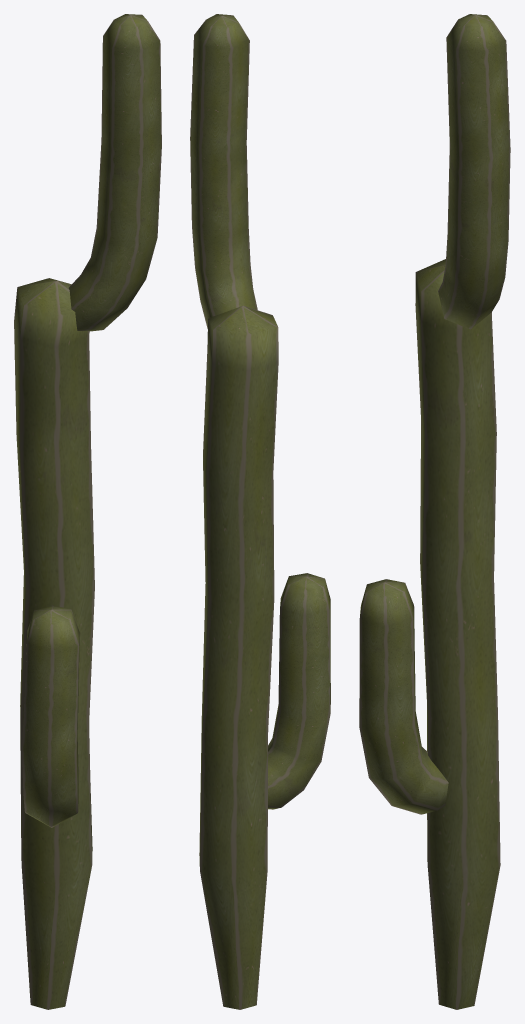
File: miracle-cactus-2.glb
3 views of the same model, side by side, from view 1: azimuth 30°, elevation 25°; view 2: azimuth 150°, elevation 25°; view 3: azimuth 330°, elevation 25° (orthographic). The views are drawn at different scales.
Visible parts, largest first — view 1: Single_cactus_small_2_LOD1_Cactus_material_0; view 2: Single_cactus_small_2_LOD1_Cactus_material_0; view 3: Single_cactus_small_2_LOD1_Cactus_material_0.
Boxes of the visible parts, box(x1,y1,x2,y2) form: Single_cactus_small_2_LOD1_Cactus_material_0: box(14, 14, 161, 1009); Single_cactus_small_2_LOD1_Cactus_material_0: box(190, 14, 330, 1009); Single_cactus_small_2_LOD1_Cactus_material_0: box(359, 14, 510, 1009).
Size of the model in its own units: 0.0781 by 0.54 by 0.0655.
Materials: 1 (1 with a texture image).
